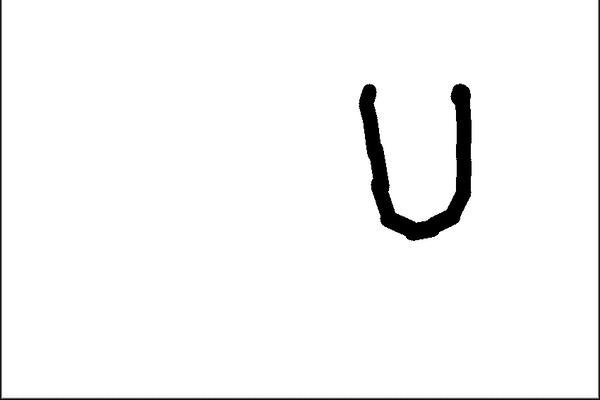U: (347, 74, 484, 243)
